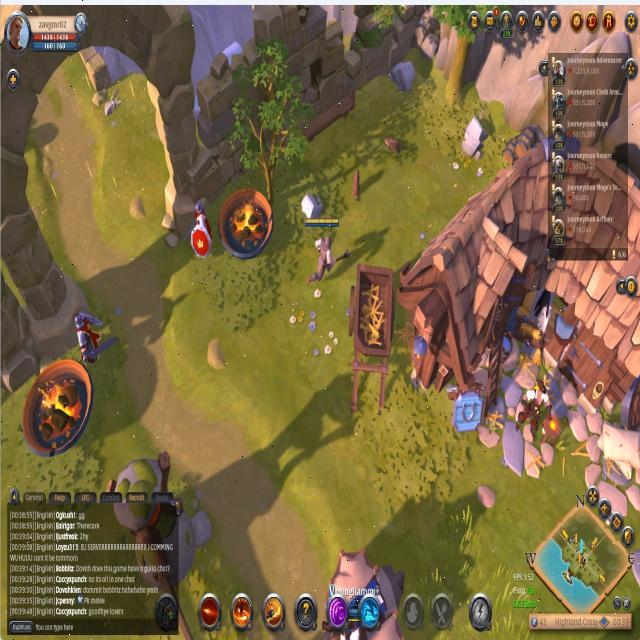stone: (456, 112, 490, 163), (385, 57, 419, 97), (294, 188, 326, 228)
